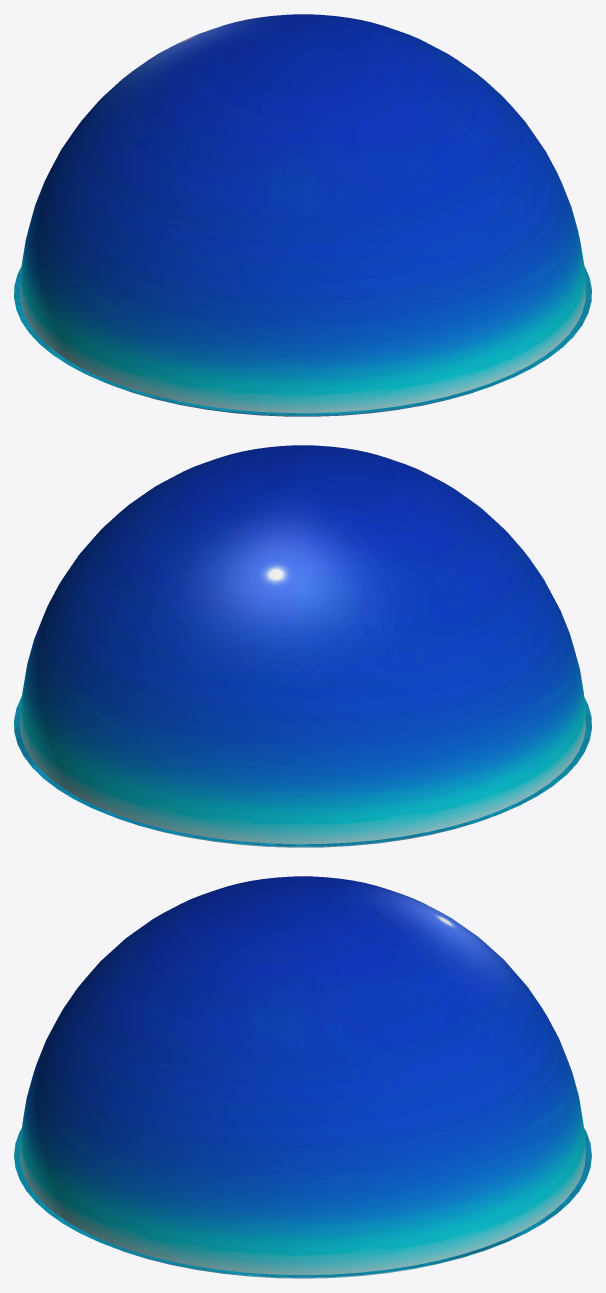
File: stage.glb
The picture shows the model from 3 angles, top to bottom: view 1: azimuth 30°, elevation 25°; view 2: azimuth 150°, elevation 25°; view 3: azimuth 270°, elevation 25°; orthographic projection.
Parts seen in each view (by area): view 1: KORE_export_kamehousemod; view 2: KORE_export_kamehousemod; view 3: KORE_export_kamehousemod.
Boxes of the visible parts, <box> form: KORE_export_kamehousemod: <box>14,14,591,416</box>; KORE_export_kamehousemod: <box>14,445,591,847</box>; KORE_export_kamehousemod: <box>14,876,591,1278</box>.
Bounding box in the file's own units: 18 × 8.81 × 18.
Materials: 36 (36 with a texture image).
